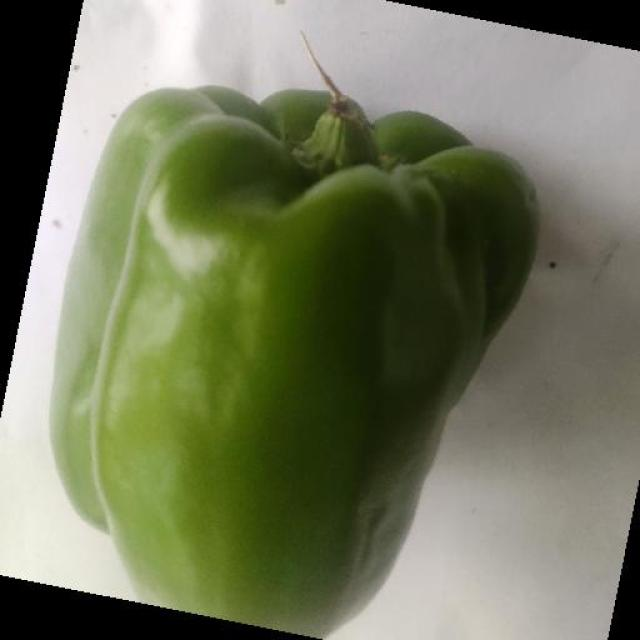Fresh_Capsicum: (74, 48, 491, 626)
